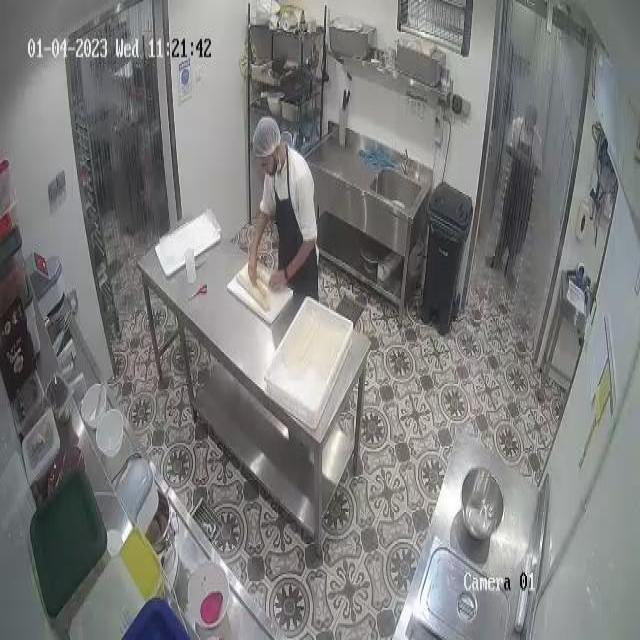hairnet: (249, 118, 280, 155), (525, 106, 537, 126)
